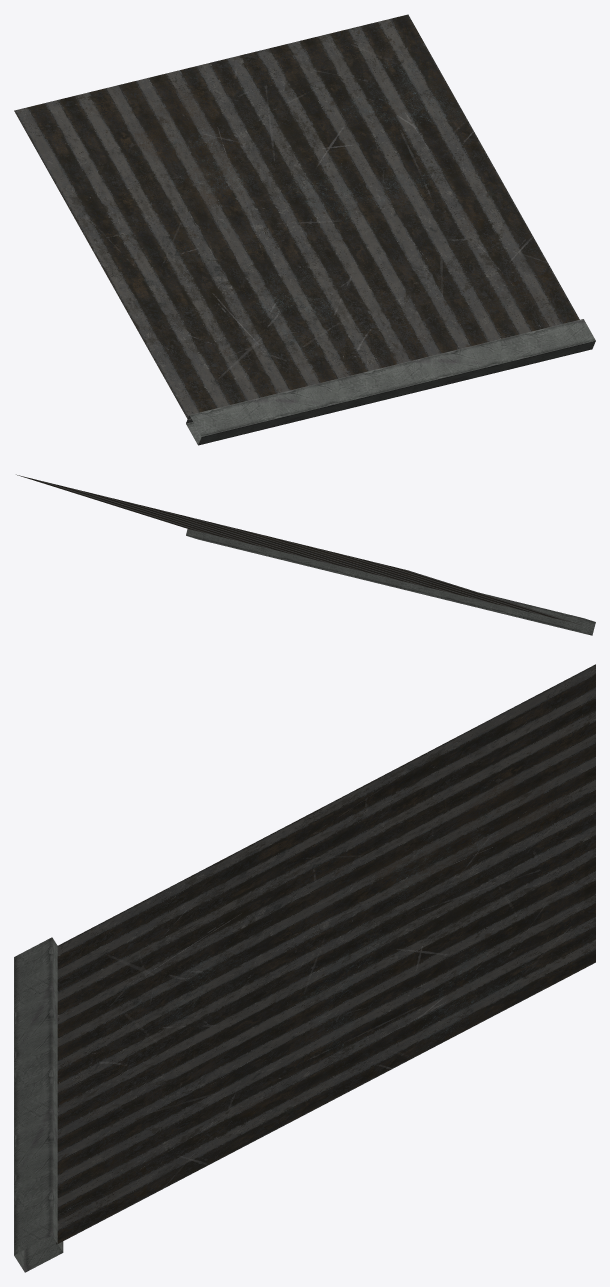
Rendered from roof.fbx.
The picture shows the model from 3 angles, top to bottom: view 1: azimuth 30°, elevation 25°; view 2: azimuth 150°, elevation 25°; view 3: azimuth 270°, elevation 25°; orthographic projection. The views are drawn at different scales.
Parts seen in each view (by area): view 1: roof; view 2: roof; view 3: roof.
Boxes of the visible parts, <box> form: roof: <box>14,14,595,445</box>; roof: <box>16,474,595,635</box>; roof: <box>14,664,595,1272</box>.
Bounding box in the file's own units: 400 × 194 × 330.
